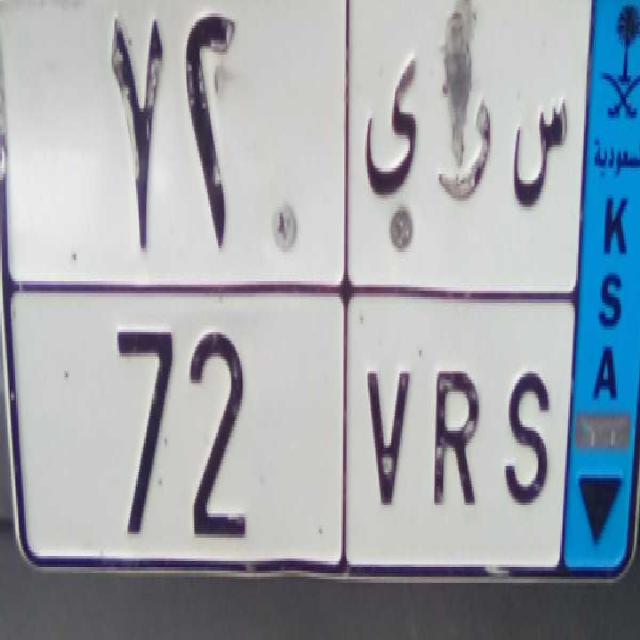license_plate: (2, 280, 569, 584)
